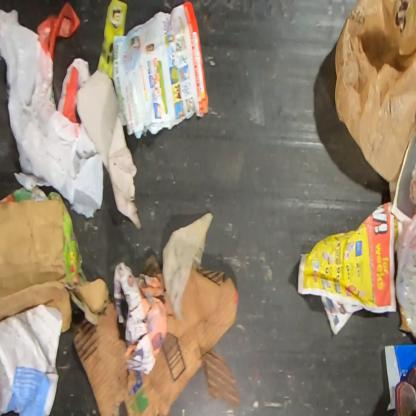cardboard: (71, 251, 243, 415), (0, 198, 110, 331), (75, 68, 142, 232), (0, 304, 65, 415)
soft_plastic: (0, 0, 106, 221), (334, 0, 415, 184), (394, 212, 415, 343), (383, 339, 415, 413), (57, 57, 91, 124)
